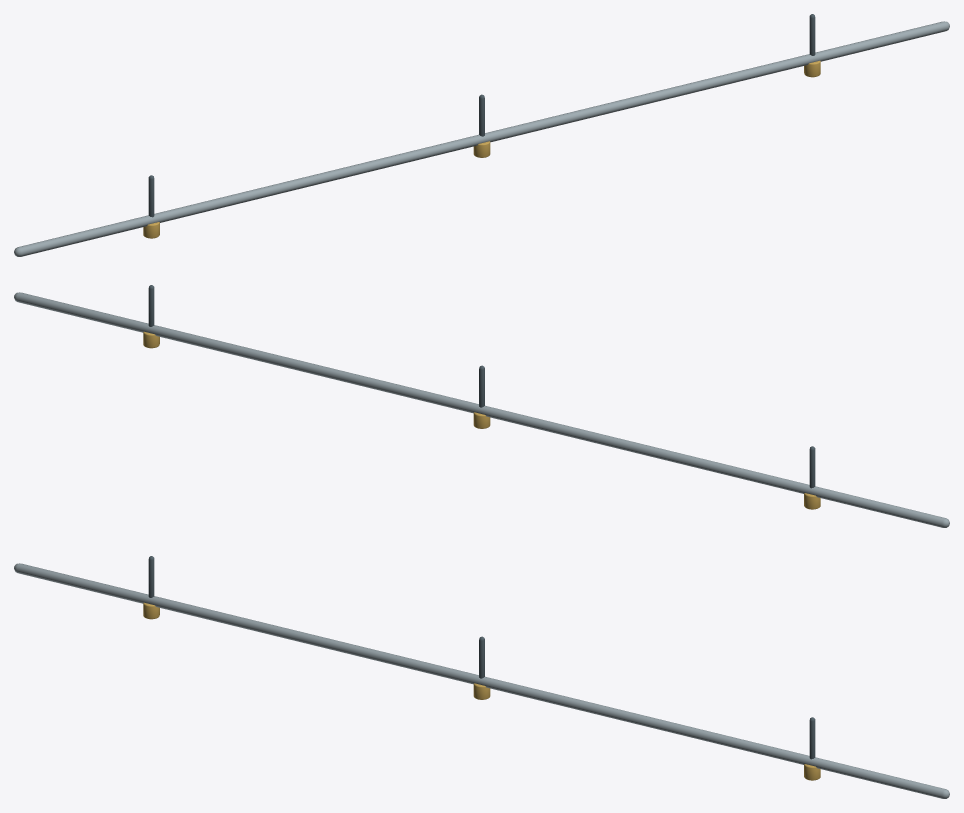
The model's file is irrigation_bar.glb.
The picture shows the model from 3 angles, top to bottom: view 1: azimuth 30°, elevation 25°; view 2: azimuth 150°, elevation 25°; view 3: azimuth 330°, elevation 25°; orthographic projection.
Parts seen in each view (by area): view 1: Metal_pipe; view 2: Metal_pipe; view 3: Metal_pipe.
Boxes of the visible parts, x1,y1,x2,y2 form: Metal_pipe: (14,21,949,256); Metal_pipe: (14,292,949,527); Metal_pipe: (14,563,949,798).
Bounding box in the file's own units: 2.83 × 0.173 × 0.044.
